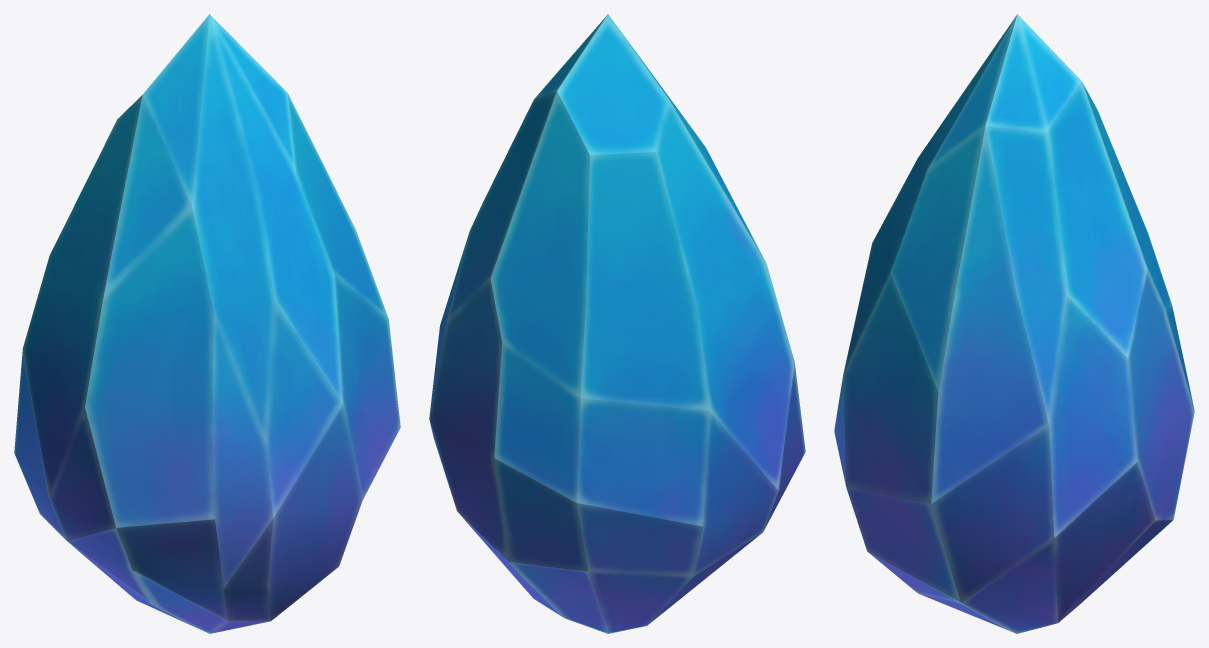
The model's file is defenceTower_center_01.FBX.
The picture shows the model from 3 angles, left to right: view 1: azimuth 30°, elevation 25°; view 2: azimuth 150°, elevation 25°; view 3: azimuth 270°, elevation 25°; orthographic projection.
Visible parts, largest first — view 1: test_crystal_001; view 2: test_crystal_001; view 3: test_crystal_001.
Part boxes in pixels (x1,y1,x2,y2): test_crystal_001: (14,14,400,633); test_crystal_001: (429,14,805,633); test_crystal_001: (834,14,1194,633).
Size of the model in its own units: 2.15 by 3.96 by 2.09.
